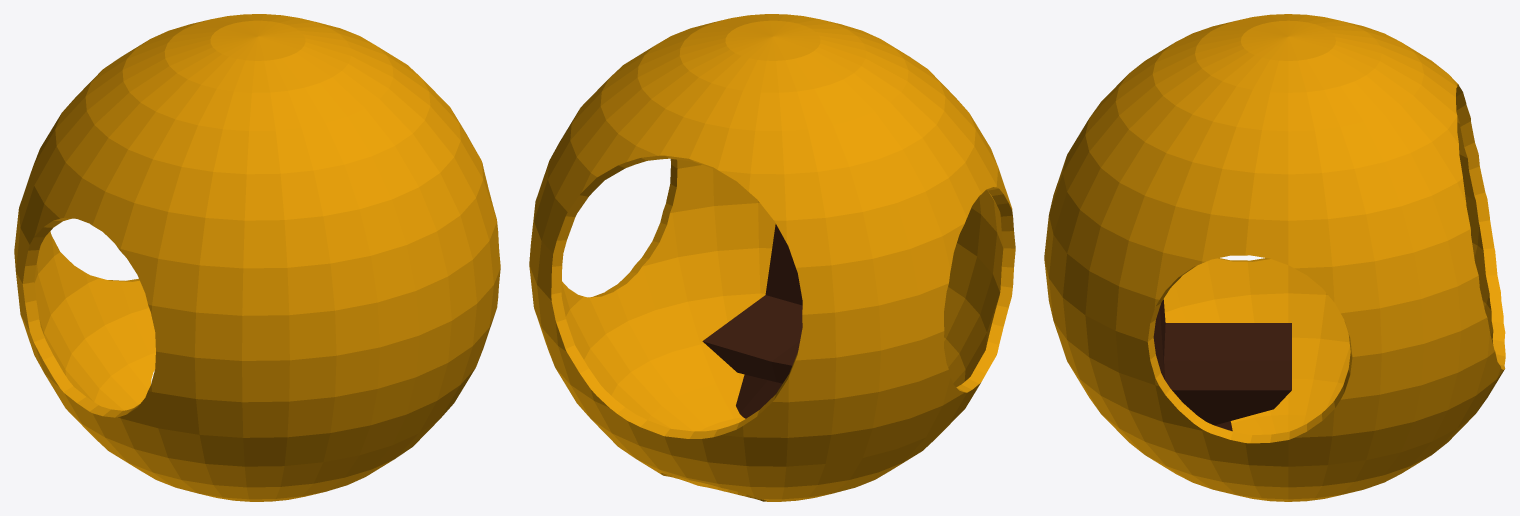
File: SubarineFrame_Test.fbx
3 views of the same model, side by side, from view 1: azimuth 30°, elevation 25°; view 2: azimuth 150°, elevation 25°; view 3: azimuth 270°, elevation 25° (orthographic).
Parts seen in each view (by area): view 1: Outside; view 2: Outside, Cube; view 3: Outside, Cube.
Part boxes in pixels (bbox=[...]): Outside: bbox=[14, 14, 500, 501]; Outside: bbox=[529, 14, 1015, 501]; Cube: bbox=[702, 224, 802, 418]; Outside: bbox=[1044, 14, 1505, 501]; Cube: bbox=[1153, 299, 1291, 431].
Size of the model in its own units: 384 by 400 by 378.
